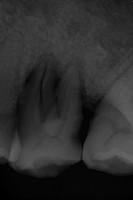Dental Caries: (52, 55, 105, 115)
